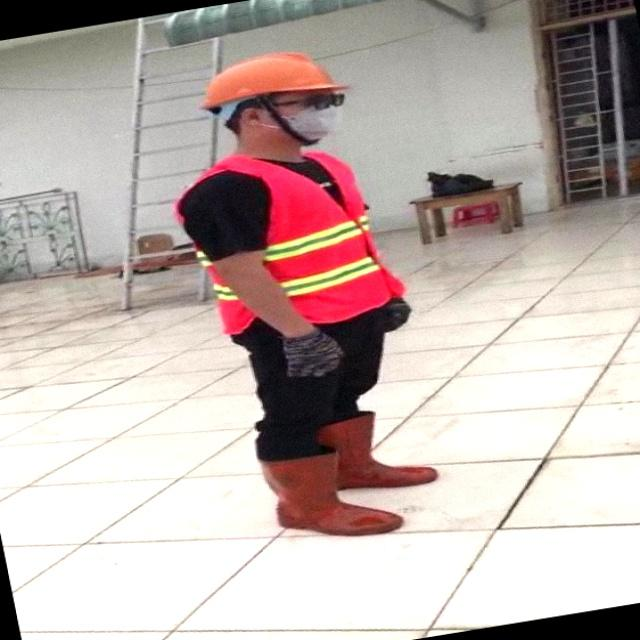Capacete: (202, 53, 348, 110)
Colete: (174, 152, 404, 323)
Oculos: (272, 93, 344, 109)
